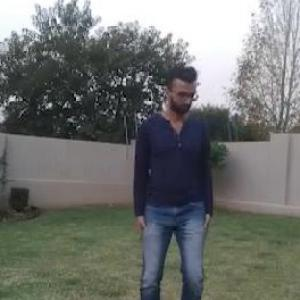follow: (131, 60, 218, 299)
